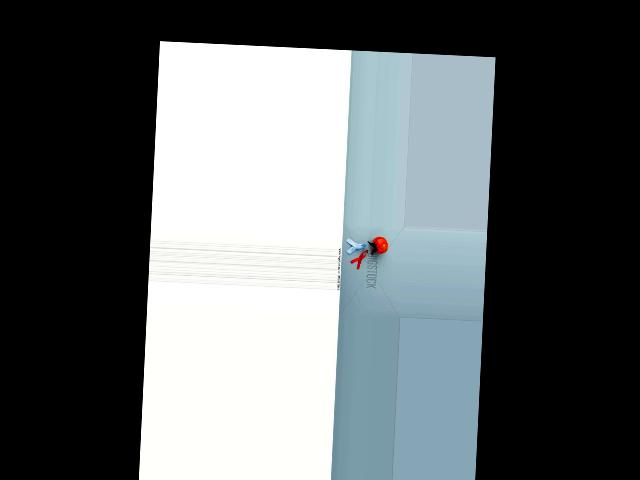tomato: (371, 236, 388, 254)
